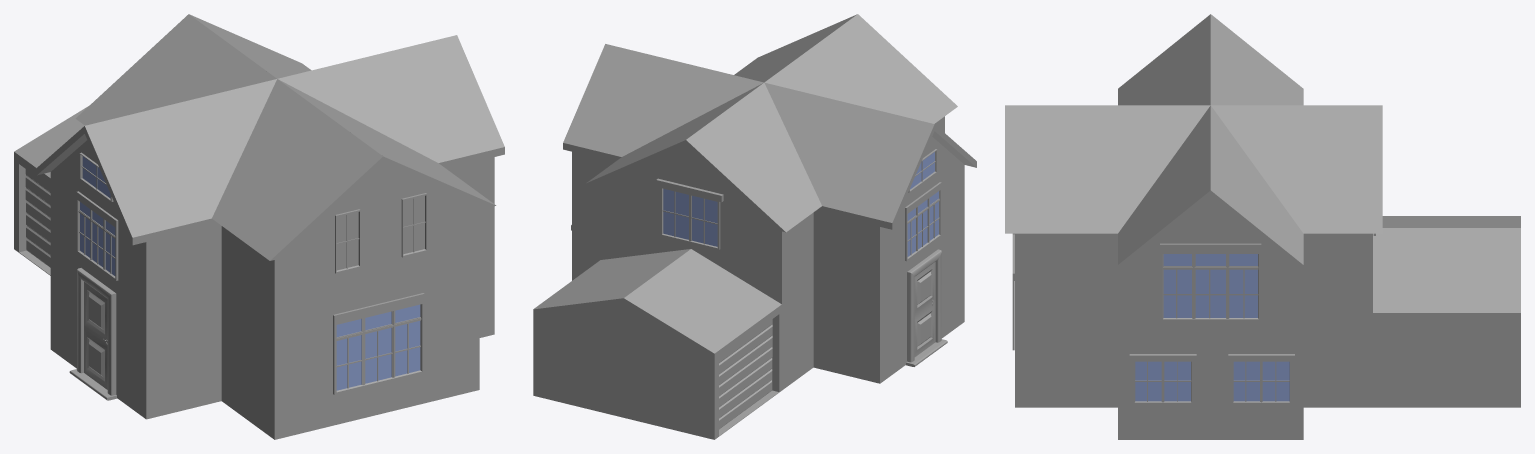
File: N_House_3.fbx
3 renders of one model, left to right at view 1: azimuth 30°, elevation 25°; view 2: azimuth 150°, elevation 25°; view 3: azimuth 270°, elevation 25°, orthographic. The views are drawn at different scales.
Visible parts, largest first — view 1: N_House_3; view 2: N_House_3; view 3: N_House_3.
Part boxes in pixels (x1,y1,x2,y2): N_House_3: (14, 14, 504, 439); N_House_3: (533, 14, 976, 439); N_House_3: (1005, 14, 1520, 439).
Size of the model in its own units: 859 by 579 by 1062.
